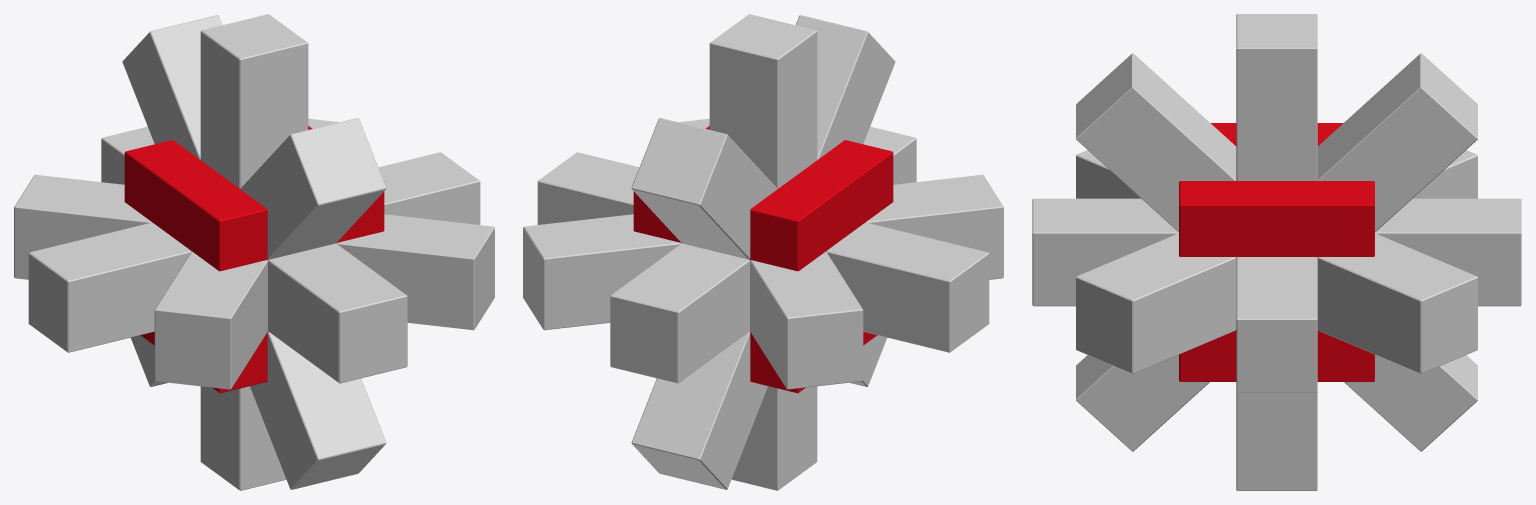
File: Roller.fbx
3 renders of one model, left to right at view 1: azimuth 30°, elevation 25°; view 2: azimuth 150°, elevation 25°; view 3: azimuth 270°, elevation 25°, orthographic. The views are drawn at different scales.
Parts seen in each view (by area): view 1: Cube; view 2: Cube; view 3: Cube.
Boxes of the visible parts, box(x1,y1,x2,y2) form: Cube: box(14, 14, 494, 490); Cube: box(523, 14, 1003, 490); Cube: box(1032, 14, 1521, 490).
Bounding box in the file's own units: 600 × 600 × 600.
